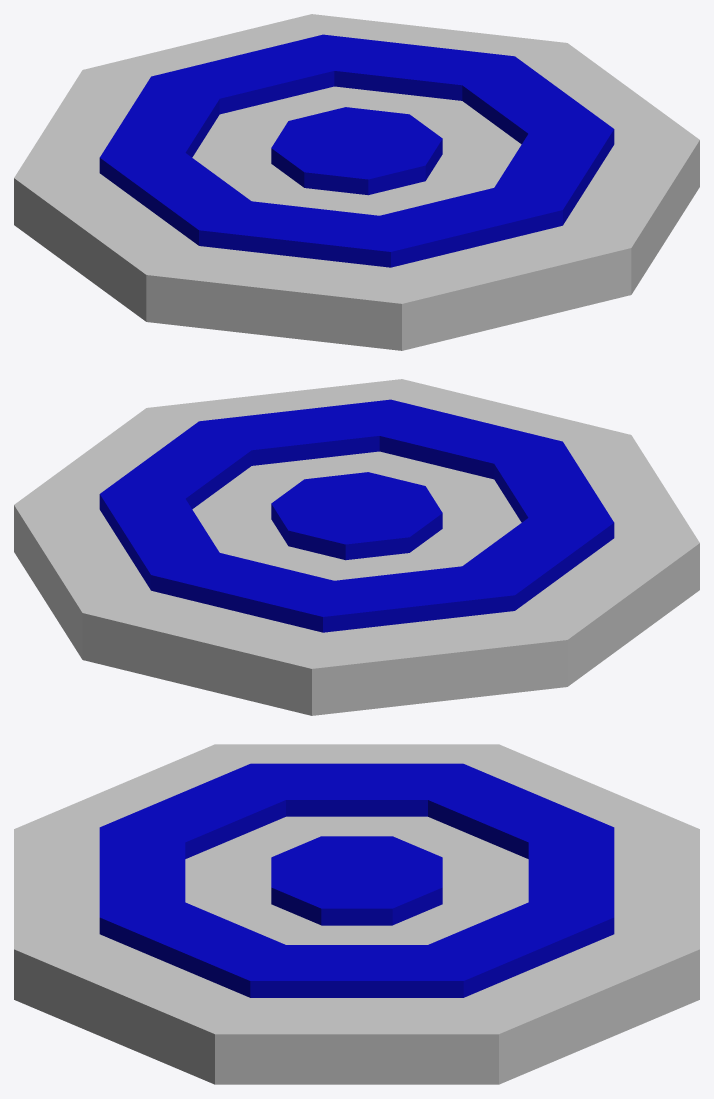
Rendered from Blue_Target.obj.
The picture shows the model from 3 angles, top to bottom: view 1: azimuth 30°, elevation 25°; view 2: azimuth 150°, elevation 25°; view 3: azimuth 270°, elevation 25°; orthographic projection. The views are drawn at different scales.
Parts seen in each view (by area): view 1: Octagon_Base_Octabase, Octagon_Big_Octabig, Octagon_Bullseye_Octabullseye; view 2: Octagon_Base_Octabase, Octagon_Big_Octabig, Octagon_Bullseye_Octabullseye; view 3: Octagon_Base_Octabase, Octagon_Big_Octabig, Octagon_Bullseye_Octabullseye.
Part boxes in pixels (x1,y1,x2,y2): Octagon_Base_Octabase: (14, 14, 699, 350); Octagon_Big_Octabig: (99, 34, 614, 267); Octagon_Bullseye_Octabullseye: (271, 107, 442, 195); Octagon_Base_Octabase: (14, 379, 699, 715); Octagon_Big_Octabig: (99, 399, 614, 632); Octagon_Bullseye_Octabullseye: (271, 472, 442, 560); Octagon_Base_Octabase: (14, 744, 699, 1084); Octagon_Big_Octabig: (99, 763, 614, 997); Octagon_Bullseye_Octabullseye: (271, 836, 442, 925).
Bounding box in the file's own units: 3.7 × 0.5 × 3.7.
